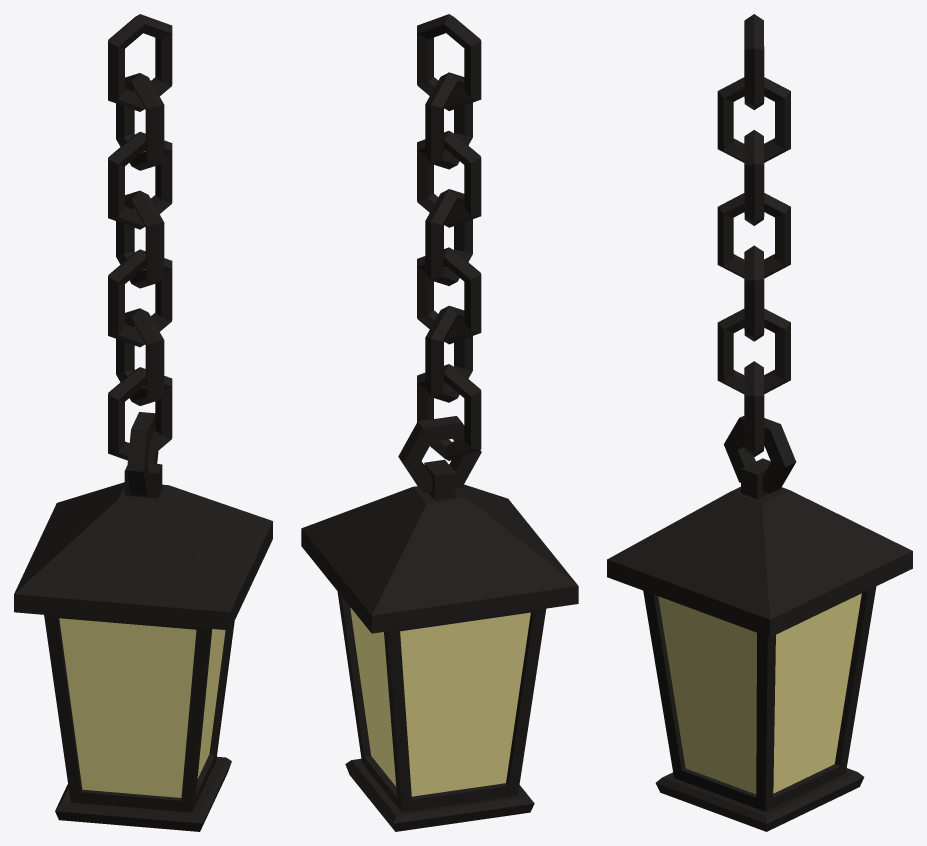
Rendered from Lamp_2.fbx.
3 renders of one model, left to right at view 1: azimuth 30°, elevation 25°; view 2: azimuth 150°, elevation 25°; view 3: azimuth 270°, elevation 25°, orthographic.
Visible parts, largest first — view 1: Lamp_2; view 2: Lamp_2; view 3: Lamp_2.
Boxes of the visible parts, x1,y1,x2,y2 form: Lamp_2: [14, 14, 272, 831]; Lamp_2: [301, 14, 578, 831]; Lamp_2: [607, 14, 912, 831].
Size of the model in its own units: 32.08 by 32.08 by 89.47.
